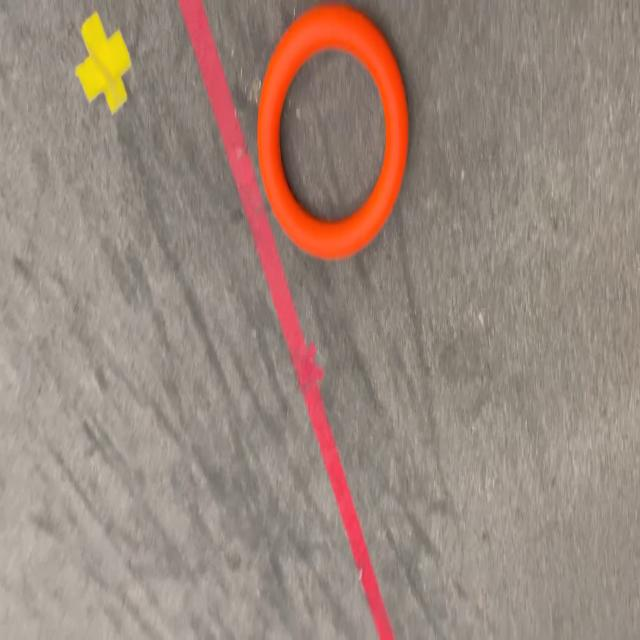note: (258, 5, 409, 257)
